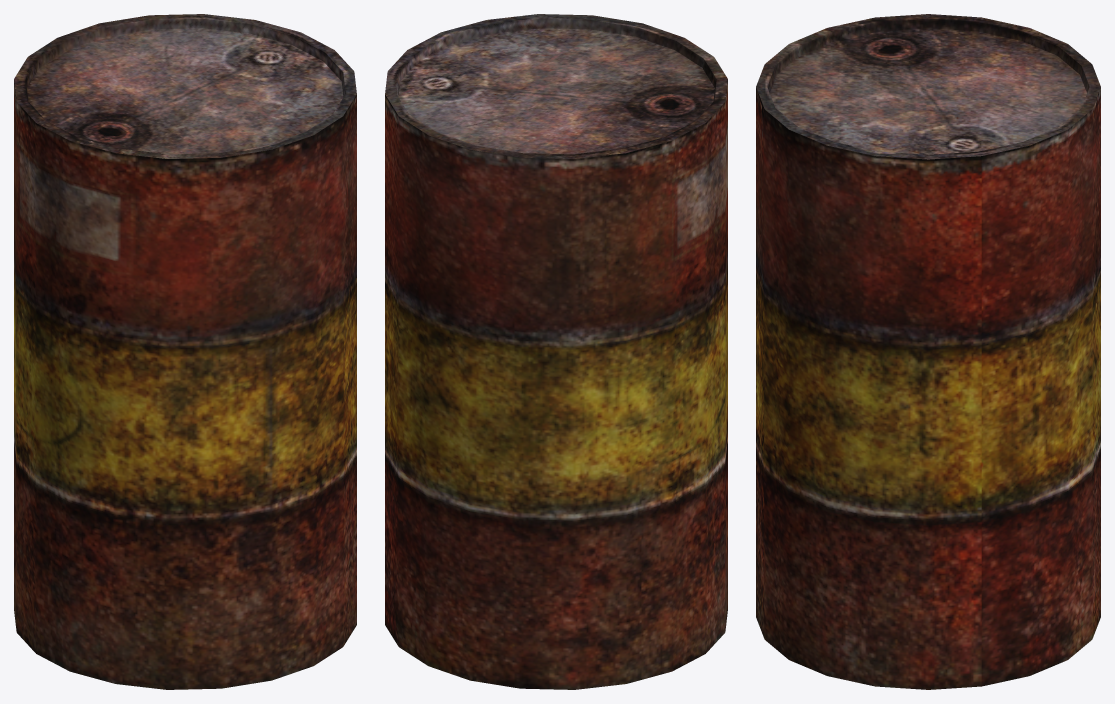
The model's file is oilbarrel_01.FBX.
3 renders of one model, left to right at view 1: azimuth 30°, elevation 25°; view 2: azimuth 150°, elevation 25°; view 3: azimuth 270°, elevation 25°, orthographic.
Visible parts, largest first — view 1: oilbarrel_01; view 2: oilbarrel_01; view 3: oilbarrel_01.
Part boxes in pixels (left/top/right/bottom): oilbarrel_01: left=14, top=14, right=356, bottom=689; oilbarrel_01: left=385, top=14, right=727, bottom=689; oilbarrel_01: left=756, top=14, right=1100, bottom=689.
Bounding box in the file's own units: 0.4512 × 0.7664 × 0.4518.
